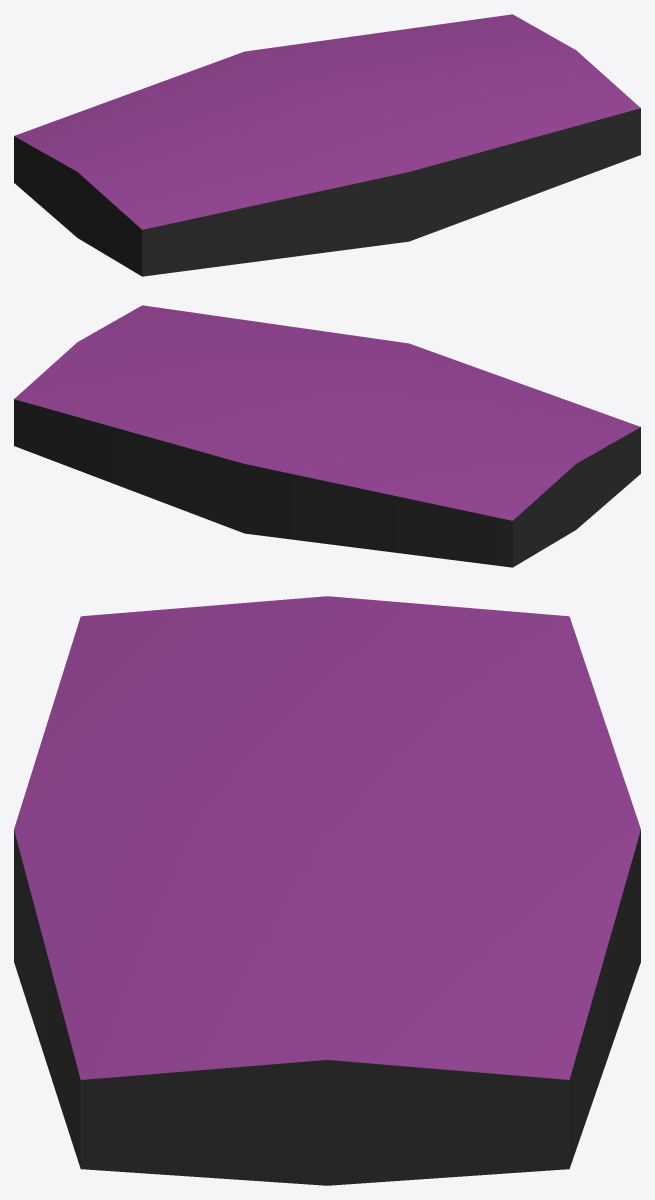
File: oreiller.FBX
3 views of the same model, one above another, from view 1: azimuth 30°, elevation 25°; view 2: azimuth 150°, elevation 25°; view 3: azimuth 270°, elevation 25° (orthographic). The views are drawn at different scales.
Visible parts, largest first — view 1: oreiller001; view 2: oreiller001; view 3: oreiller001.
Boxes of the visible parts, left/top/right/bottom form: oreiller001: left=14, top=14, right=640, bottom=276; oreiller001: left=14, top=305, right=640, bottom=567; oreiller001: left=14, top=596, right=640, bottom=1185.
Bounding box in the file's own units: 70 × 11.97 × 40.
